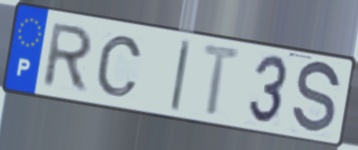3: (245, 53, 290, 129)
C: (94, 33, 145, 99)
I: (168, 38, 193, 115)
R: (39, 21, 97, 94)
S: (289, 59, 343, 137)
T: (199, 40, 245, 119)
